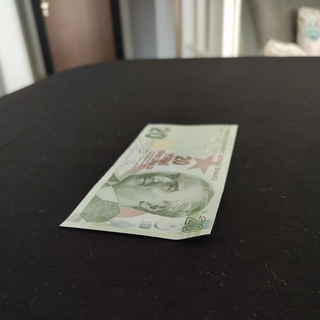20TLFront: (59, 122, 239, 238)
